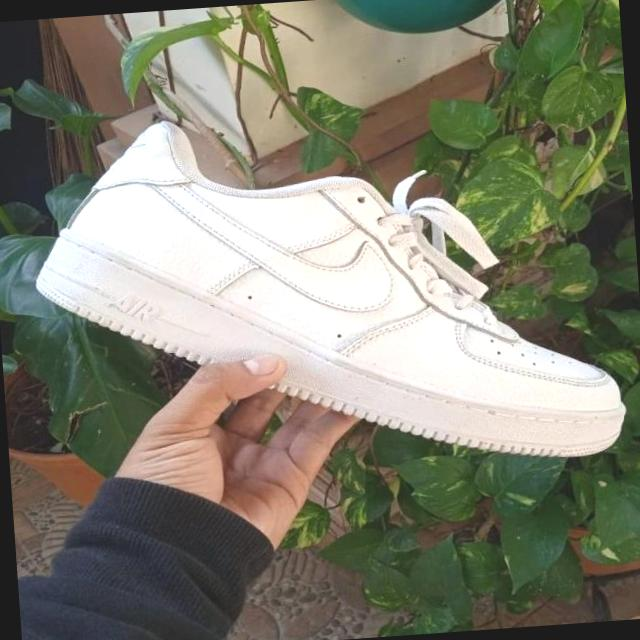nike_original_airforce: (22, 86, 632, 495)
